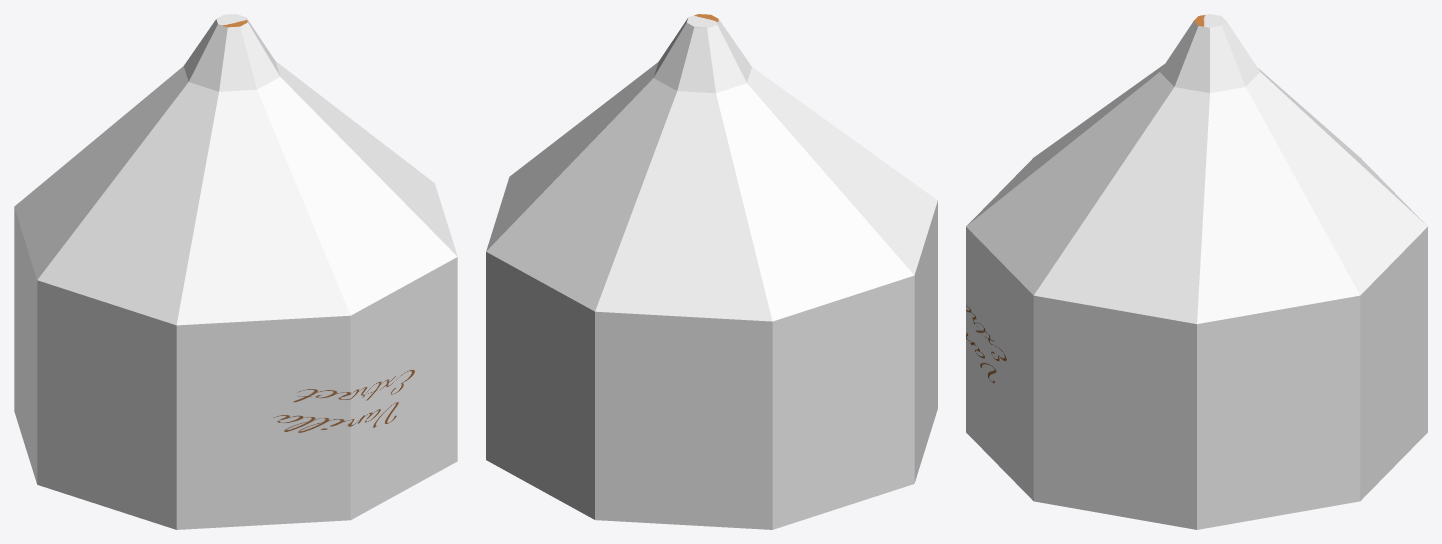
Rendered from Prop masak_Lemon Half.fbx.
3 renders of one model, left to right at view 1: azimuth 30°, elevation 25°; view 2: azimuth 150°, elevation 25°; view 3: azimuth 270°, elevation 25°, orthographic.
Visible parts, largest first — view 1: Lemon peras; view 2: Lemon peras; view 3: Lemon peras.
Boxes of the visible parts, box(x1,y1,x2,y2) form: Lemon peras: box(14, 14, 457, 529); Lemon peras: box(486, 14, 937, 529); Lemon peras: box(966, 14, 1427, 529).
Bounding box in the file's own units: 8.89 × 8.77 × 8.89.
